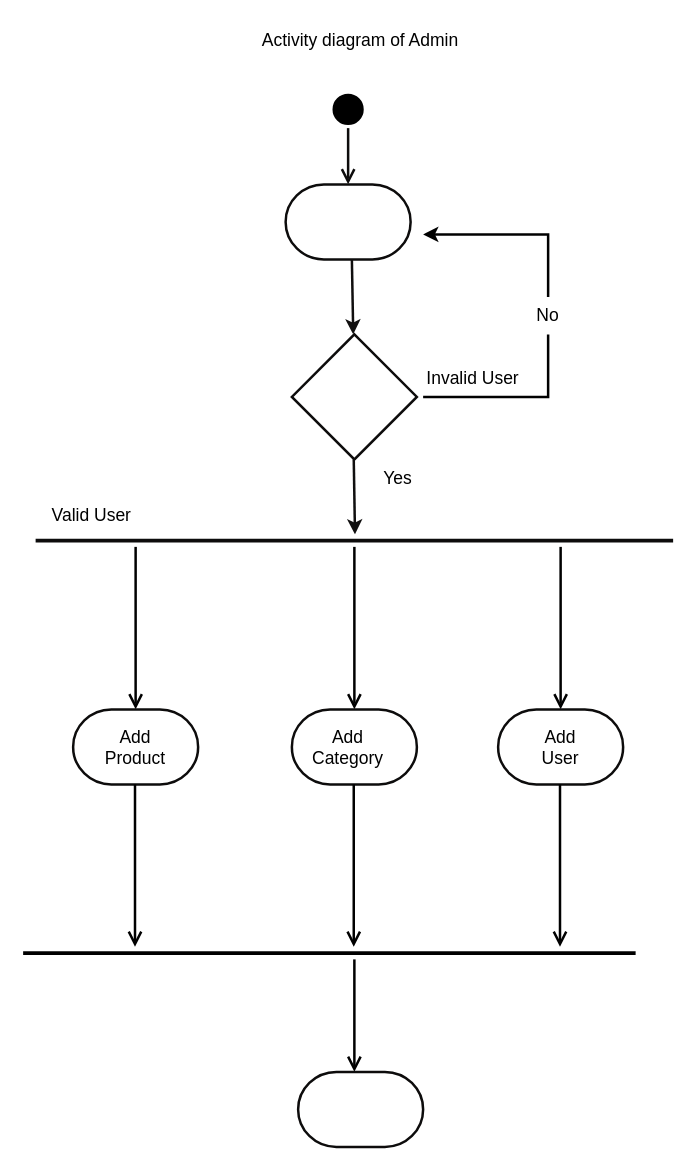
This 696x1169 diagram has some shape labels left out. Each missing label, with the centre of its shape:
"Login" belongs at [347,221].
"Logout" belongs at [360,1109].
